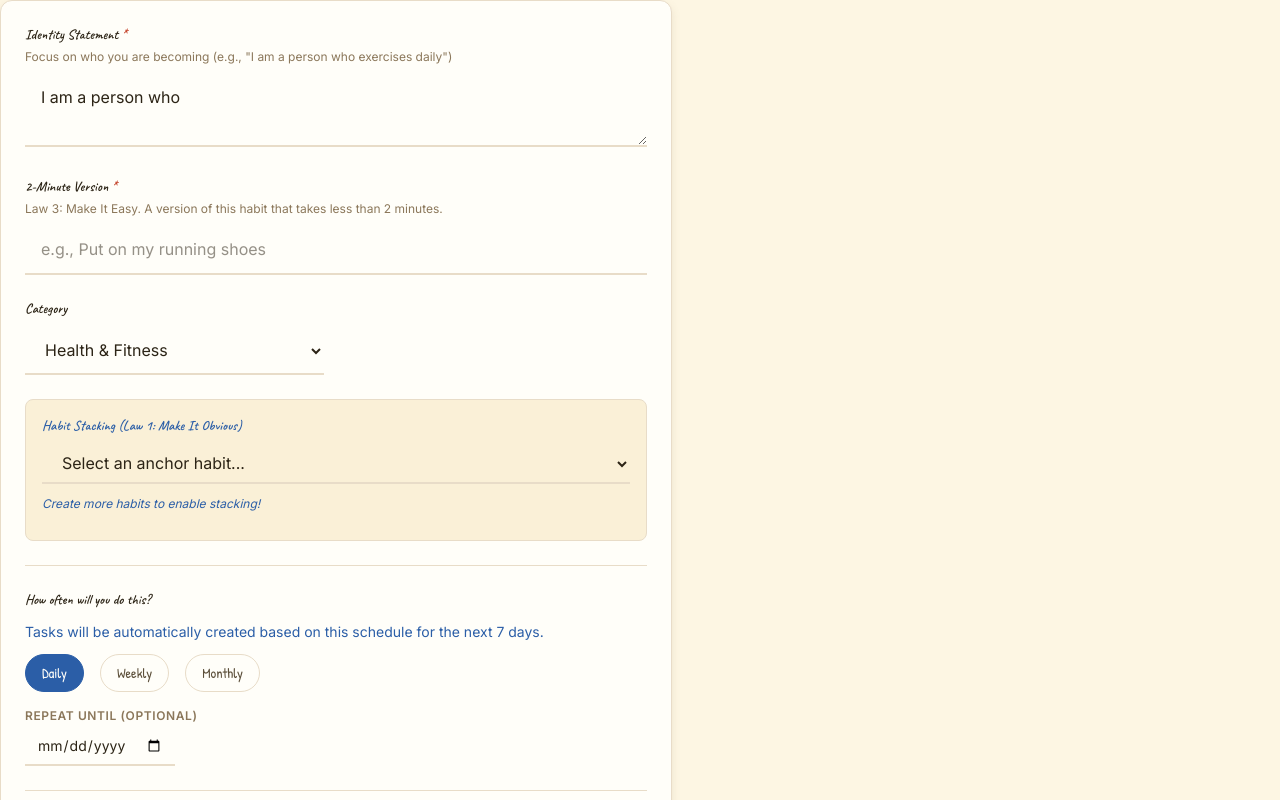
HabitForm Component › Loading and Error States › disables submit button while submitting
Type "Start small" into the field labelled "2-Minute Version *" at (336, 250), box 25,225 -> 647,275
(page scrolled)
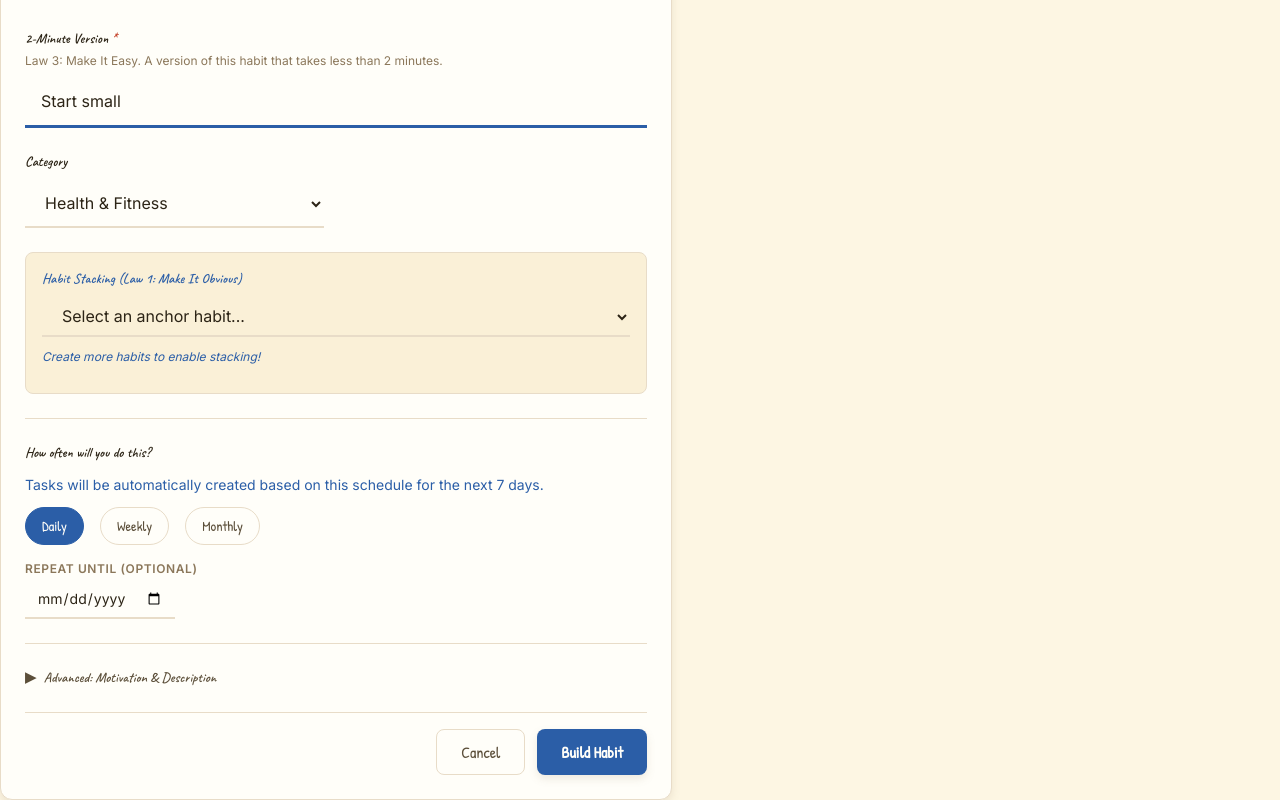
Click the button "Build Habit" at (592, 752), box 537,729 -> 647,775
(page scrolled)
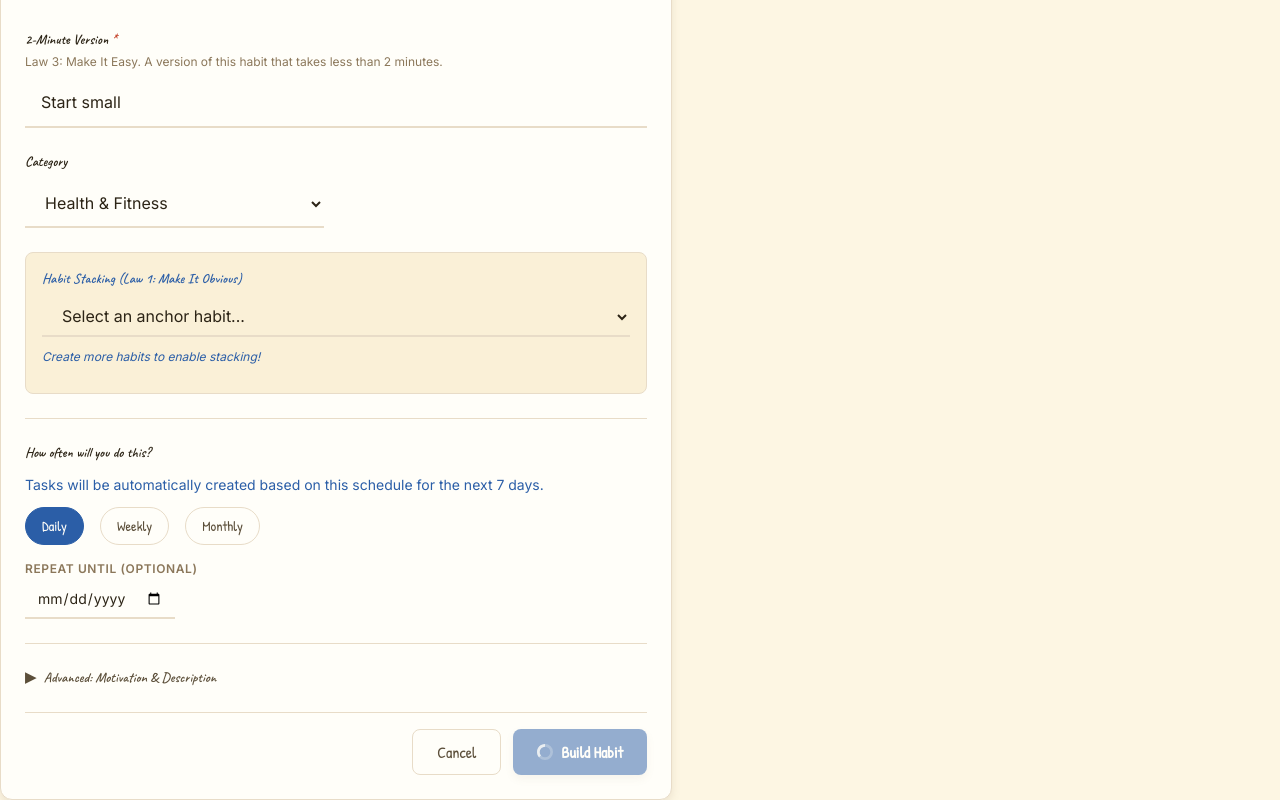
Check: the button "Build Habit" is disabled, box 513,729 -> 647,775
